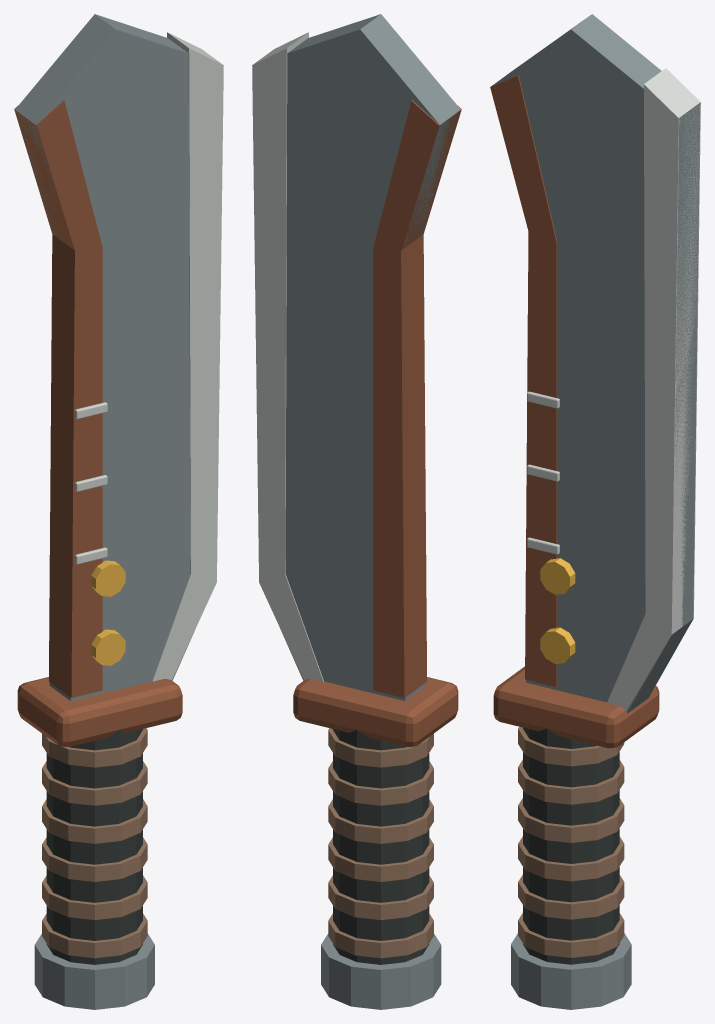
The model's file is Machete.fbx.
3 renders of one model, left to right at view 1: azimuth 30°, elevation 25°; view 2: azimuth 150°, elevation 25°; view 3: azimuth 330°, elevation 25°, orthographic.
Visible parts, largest first — view 1: Lame asymétrique, Dos rouillé, Fil poli, Poignee, Garde, Pommeau, Ligature 00, Ligature 01, Ligature 02, Ligature 03, Ligature 04, Ligature 05 (+2 smaller); view 2: Lame asymétrique, Dos rouillé, Fil poli, Poignee, Garde, Pommeau, Ligature 00, Ligature 01, Ligature 02, Ligature 03, Ligature 04, Ligature 05; view 3: Lame asymétrique, Fil poli, Dos rouillé, Poignee, Garde, Pommeau, Ligature 02, Ligature 03, Ligature 01, Ligature 04, Ligature 00, Ligature 05 (+2 smaller).
Part boxes in pixels (x1,y1,x2,y2): Lame asymétrique: [15, 14, 195, 700]; Dos rouillé: [14, 100, 102, 697]; Fil poli: [152, 32, 223, 681]; Poignee: [46, 729, 142, 964]; Garde: [17, 677, 182, 746]; Pommeau: [34, 933, 154, 1009]; Ligature 00: [42, 913, 147, 958]; Ligature 01: [42, 875, 147, 919]; Ligature 02: [42, 837, 147, 881]; Ligature 03: [42, 799, 147, 843]; Ligature 04: [42, 761, 147, 805]; Ligature 05: [42, 728, 147, 767]; Lame asymétrique: [280, 14, 460, 700]; Dos rouillé: [373, 100, 461, 697]; Fil poli: [252, 32, 323, 681]; Poignee: [333, 729, 429, 964]; Garde: [293, 677, 458, 746]; Pommeau: [321, 933, 441, 1009]; Ligature 00: [328, 913, 433, 958]; Ligature 01: [328, 875, 433, 919]; Ligature 02: [328, 837, 433, 881]; Ligature 03: [328, 799, 433, 843]; Ligature 04: [328, 761, 433, 805]; Ligature 05: [328, 728, 433, 767]; Lame asymétrique: [491, 14, 700, 713]; Fil poli: [607, 68, 700, 711]; Dos rouillé: [490, 75, 557, 686]; Poignee: [523, 727, 619, 964]; Garde: [493, 666, 659, 748]; Pommeau: [511, 933, 631, 1009]; Ligature 02: [518, 836, 624, 881]; Ligature 03: [518, 798, 624, 842]; Ligature 01: [518, 874, 624, 919]; Ligature 04: [518, 759, 624, 804]; Ligature 00: [518, 913, 624, 957]; Ligature 05: [518, 726, 624, 766].
Size of the model in its own units: 54 by 265 by 30.
